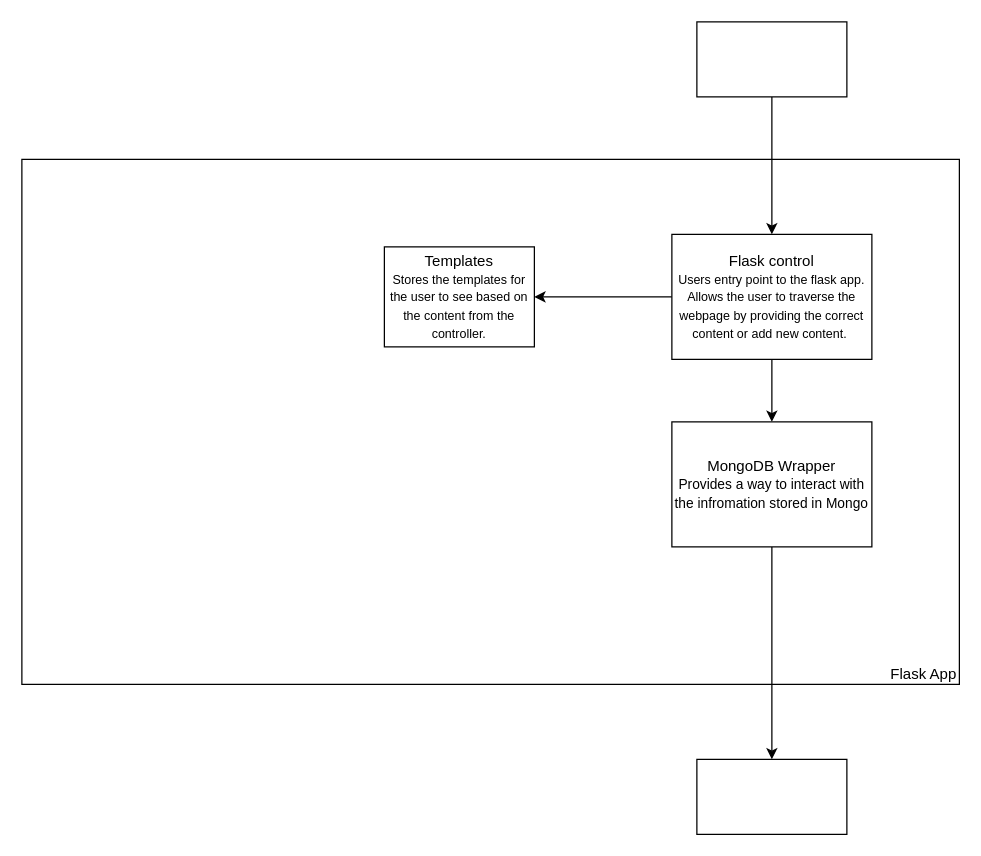
The diagram is 981 pixels wide and 856 high, and some of its shapes have lost their labels. The box of each missing label's shape, as (x1, y1, x2, y2) in pixels:
MongoDB: (696, 758, 847, 834)
Web Page Displays content for user and gets user input: (696, 21, 847, 97)
